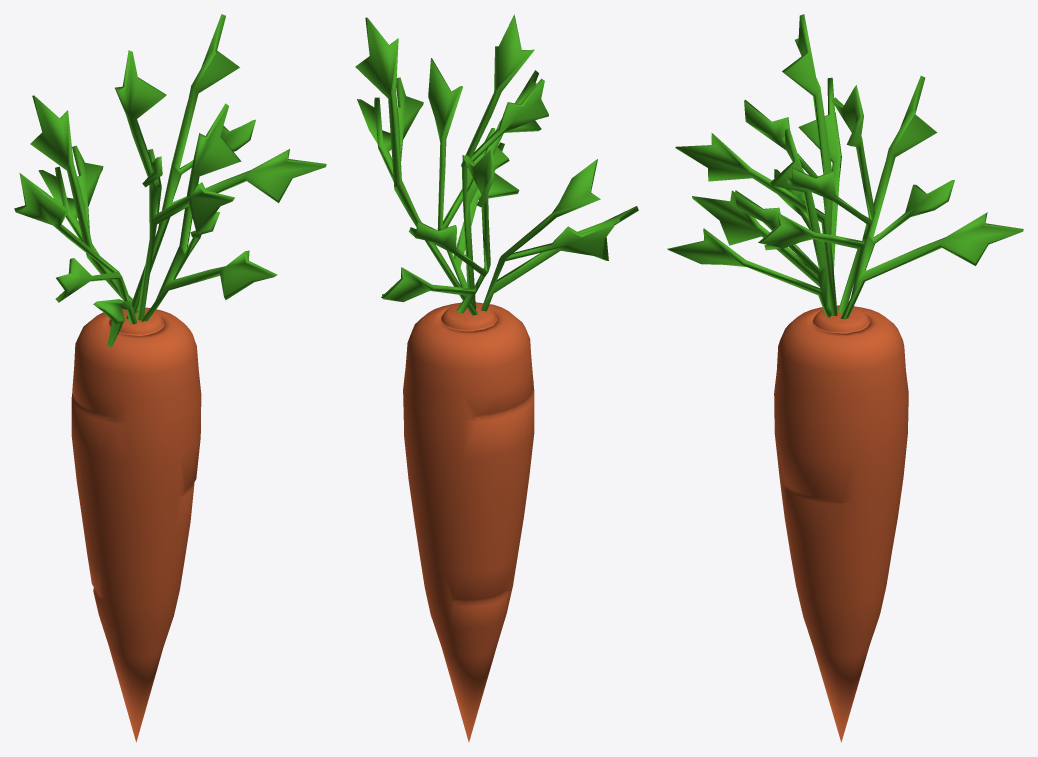
Rendered from CenouraMadura.fbx.
3 views of the same model, side by side, from view 1: azimuth 30°, elevation 25°; view 2: azimuth 150°, elevation 25°; view 3: azimuth 270°, elevation 25° (orthographic).
Parts seen in each view (by area): view 1: CenouraMadura; view 2: CenouraMadura; view 3: CenouraMadura.
Boxes of the visible parts, left/top/right/bottom form: CenouraMadura: left=14, top=14, right=326, bottom=742; CenouraMadura: left=355, top=14, right=638, bottom=742; CenouraMadura: left=667, top=14, right=1023, bottom=742.
Size of the model in its own units: 8.71 by 21.46 by 9.69.
